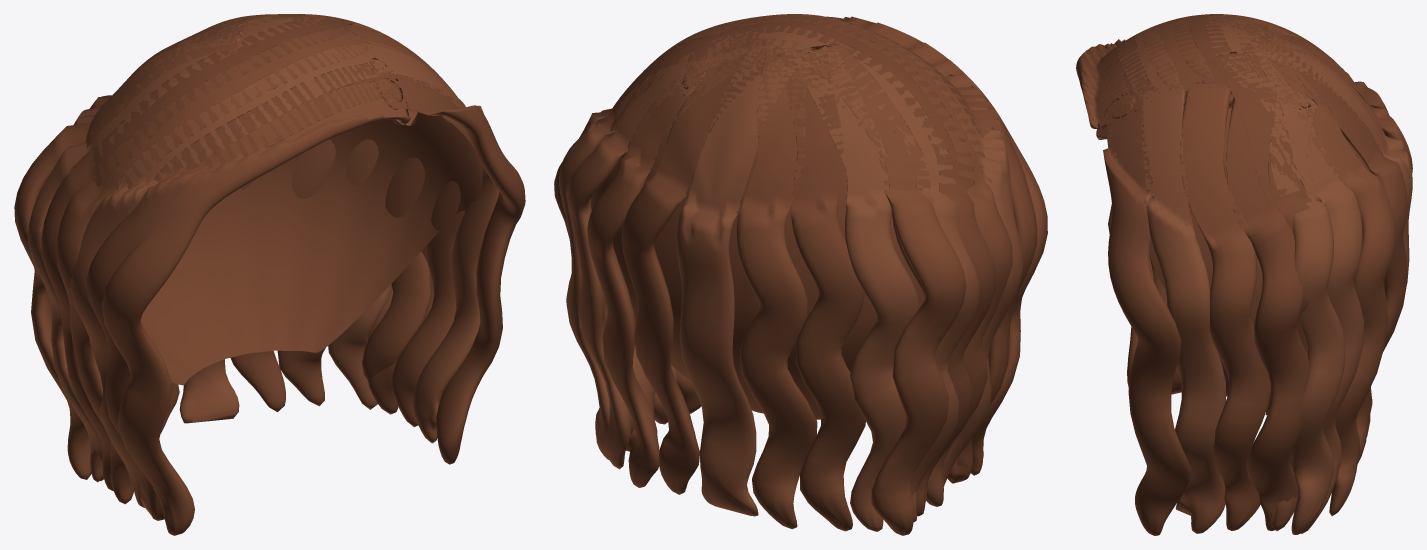
File: Feminine-curls-headband261-hair.glb
The picture shows the model from 3 angles, left to right: view 1: azimuth 30°, elevation 25°; view 2: azimuth 150°, elevation 25°; view 3: azimuth 270°, elevation 25°; orthographic projection. The views are drawn at different scales.
Parts seen in each view (by area): view 1: 226 hair / Hair / sculpted 0.001, 226 hair / Hair / sculpted 1.001, 226 hair / Hair / sculpted 1.002, 226 hair / Hair / sculpted 2.001; view 2: 226 hair / Hair / sculpted 0.001, 226 hair / Hair / sculpted 2.001, 226 hair / Hair / sculpted 1.002, 226 hair / Hair / sculpted 1.001; view 3: 226 hair / Hair / sculpted 1.002, 226 hair / Hair / sculpted 2.001, 226 hair / Hair / sculpted 0.001, 226 hair / Hair / sculpted 1.001.
Part boxes in pixels (box(x1,y1,x2,y2)): 226 hair / Hair / sculpted 0.001: box(14, 14, 465, 535); 226 hair / Hair / sculpted 1.001: box(140, 112, 482, 385); 226 hair / Hair / sculpted 1.002: box(41, 14, 525, 520); 226 hair / Hair / sculpted 2.001: box(27, 14, 499, 507); 226 hair / Hair / sculpted 0.001: box(587, 14, 1047, 535); 226 hair / Hair / sculpted 2.001: box(558, 14, 1023, 531); 226 hair / Hair / sculpted 1.002: box(554, 17, 1037, 531); 226 hair / Hair / sculpted 1.001: box(590, 122, 924, 419); 226 hair / Hair / sculpted 1.002: box(1099, 14, 1407, 535); 226 hair / Hair / sculpted 2.001: box(1117, 14, 1412, 534); 226 hair / Hair / sculpted 0.001: box(1076, 15, 1412, 530); 226 hair / Hair / sculpted 1.001: box(1149, 106, 1369, 415).
Size of the model in its own units: 1.09 by 1.09 by 0.769.
